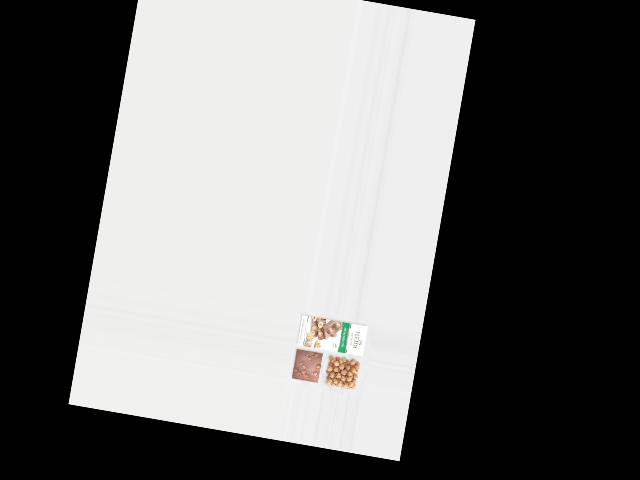chocolate: (289, 347, 323, 386)
